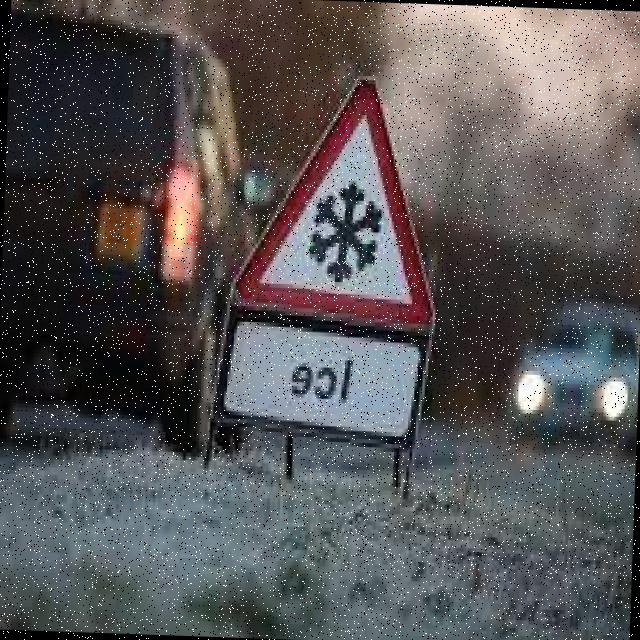snow_warning: (226, 62, 452, 332)
